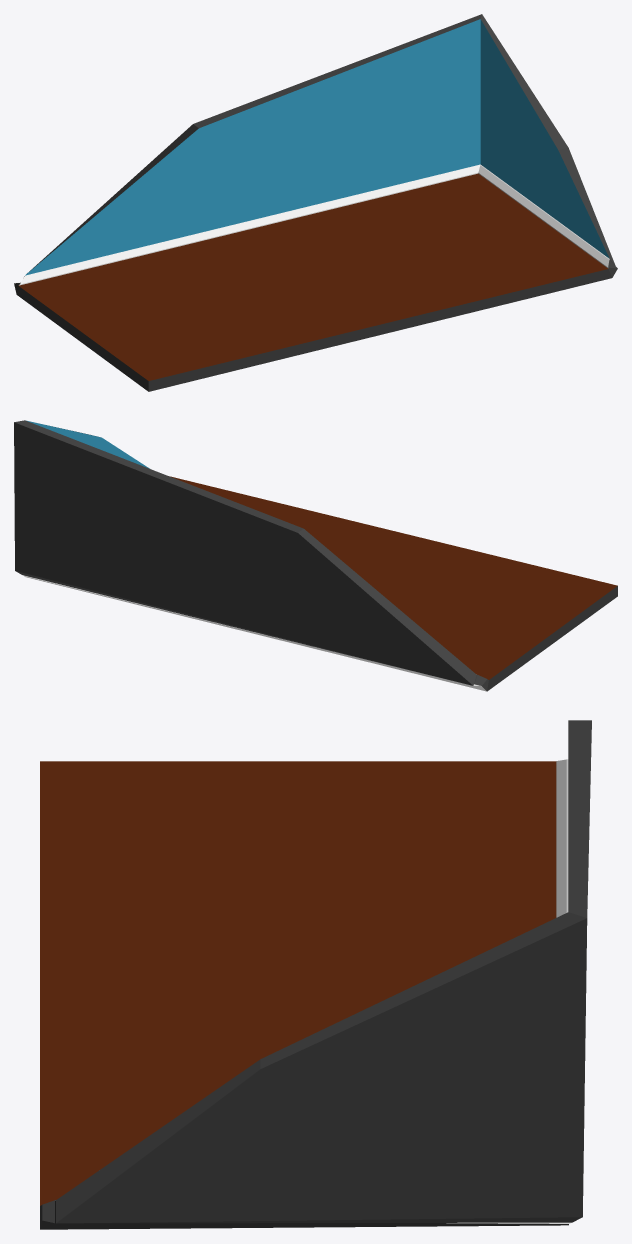
File: room.glb
3 views of the same model, one above another, from view 1: azimuth 30°, elevation 25°; view 2: azimuth 150°, elevation 25°; view 3: azimuth 270°, elevation 25° (orthographic). The views are drawn at different scales.
Parts seen in each view (by area): view 1: Plane; view 2: Plane; view 3: Plane.
Boxes of the visible parts, x1,y1,x2,y2 form: Plane: (14, 14, 617, 391); Plane: (14, 420, 617, 691); Plane: (40, 720, 591, 1229).
Bounding box in the file's own units: 6.18 × 2.01 × 3.14.
